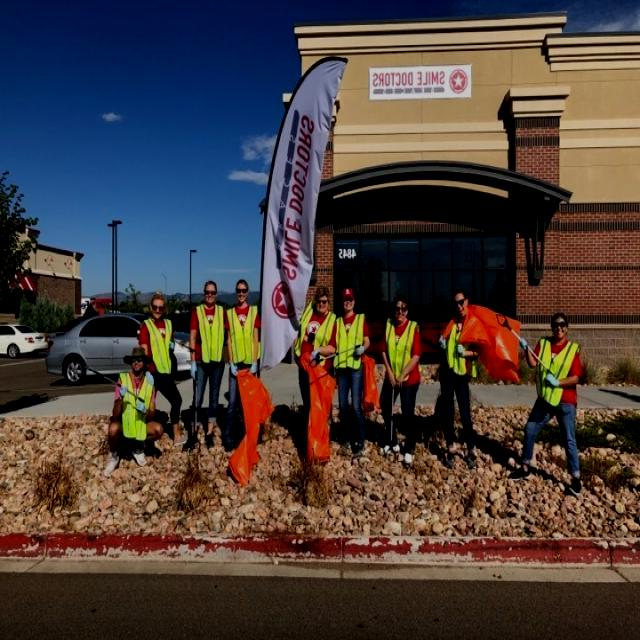vest: (119, 359, 159, 452), (211, 302, 261, 362), (294, 299, 336, 367), (328, 312, 372, 374), (537, 338, 572, 402), (142, 312, 174, 374), (197, 308, 230, 363), (387, 317, 416, 372), (446, 337, 472, 380)
